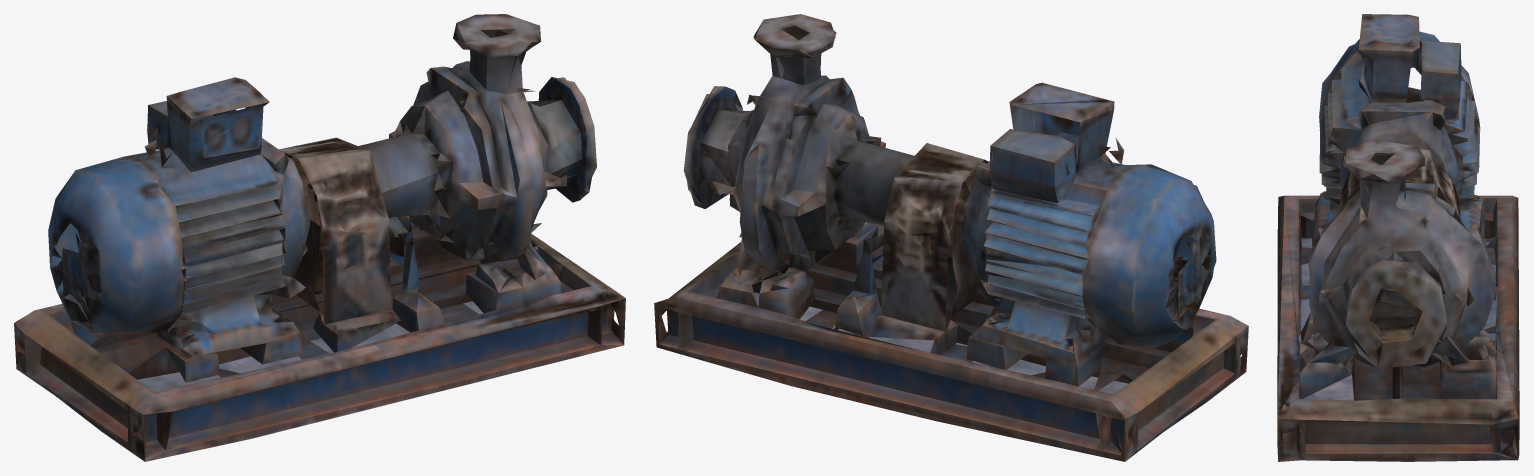
Rendered from p7-water-pump-skid.glb.
3 views of the same model, side by side, from view 1: azimuth 30°, elevation 25°; view 2: azimuth 150°, elevation 25°; view 3: azimuth 270°, elevation 25° (orthographic). The views are drawn at different scales.
Parts seen in each view (by area): view 1: p7-water-pump-skid; view 2: p7-water-pump-skid; view 3: p7-water-pump-skid.
Boxes of the visible parts, left/top/right/bottom form: p7-water-pump-skid: left=14, top=14, right=625, bottom=461; p7-water-pump-skid: left=654, top=14, right=1248, bottom=461; p7-water-pump-skid: left=1277, top=14, right=1519, bottom=461.
Size of the model in its own units: 1.04 by 0.6 by 0.4716.
Materials: 1 (1 with a texture image).
